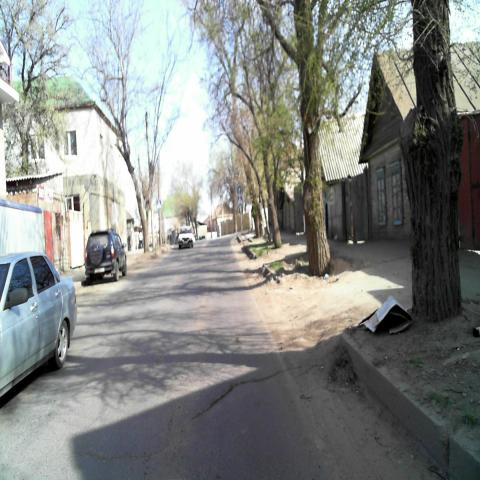4_1_2: (236, 184, 243, 196)
5_19_1: (237, 196, 244, 207), (156, 198, 162, 210)
